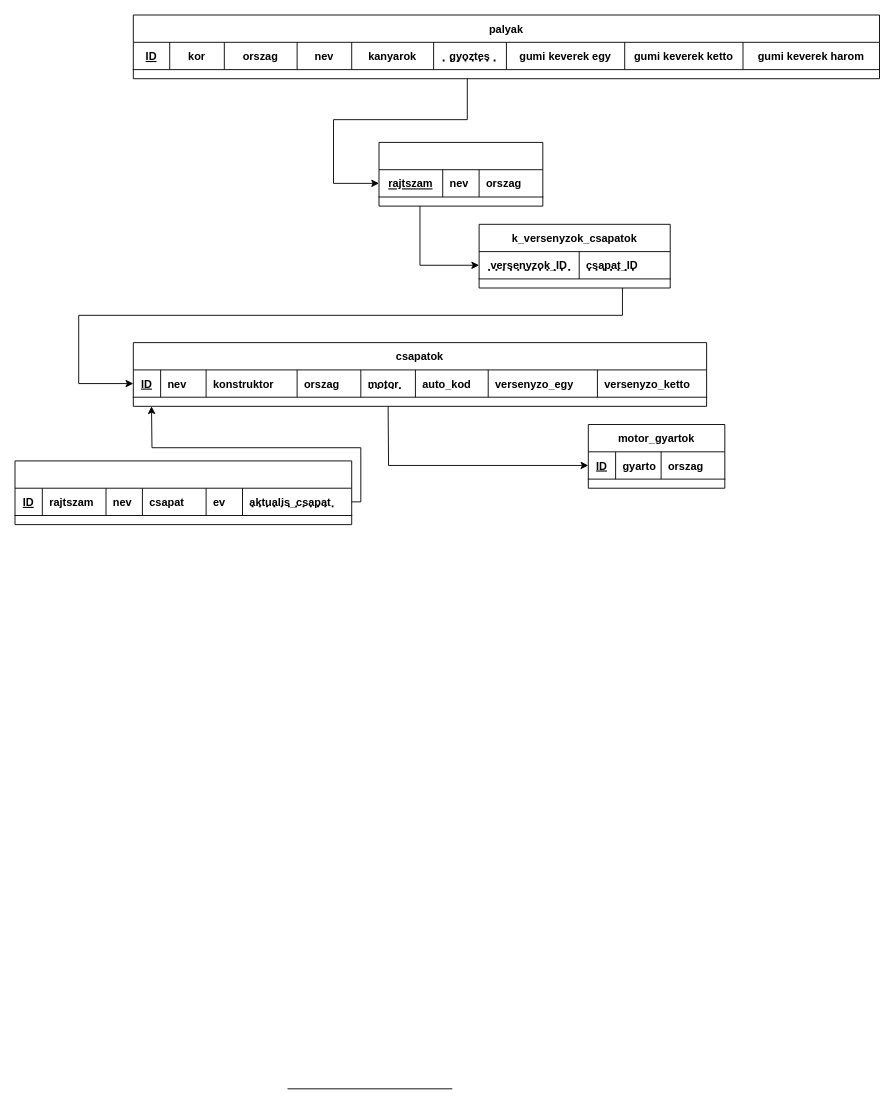
This 895x1104 diagram has some shape labels left out. The shapes that lost their labels are listed below. From the top down, each one's box as (x1, y1, x2, y2) in pixels, then its label:
(378, 142, 543, 206): versenyzok
(14, 460, 352, 525): vilagbajnokok
